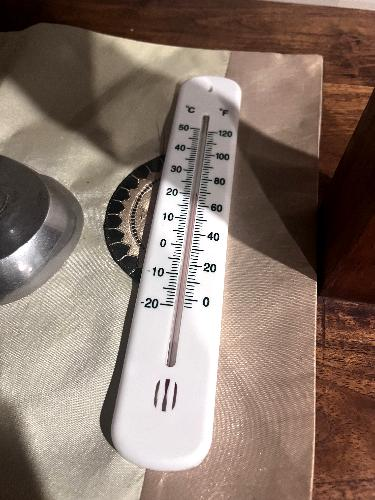thermo: (101, 68, 285, 474)
